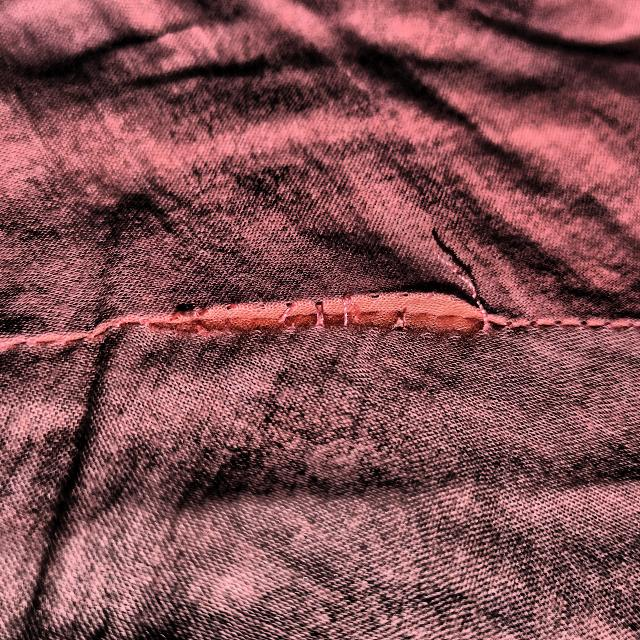seam: (133, 234, 514, 386)
